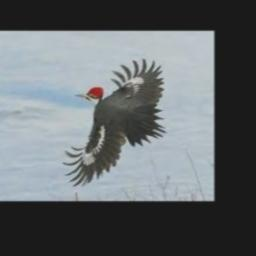Woodpecker: (61, 57, 167, 186)
